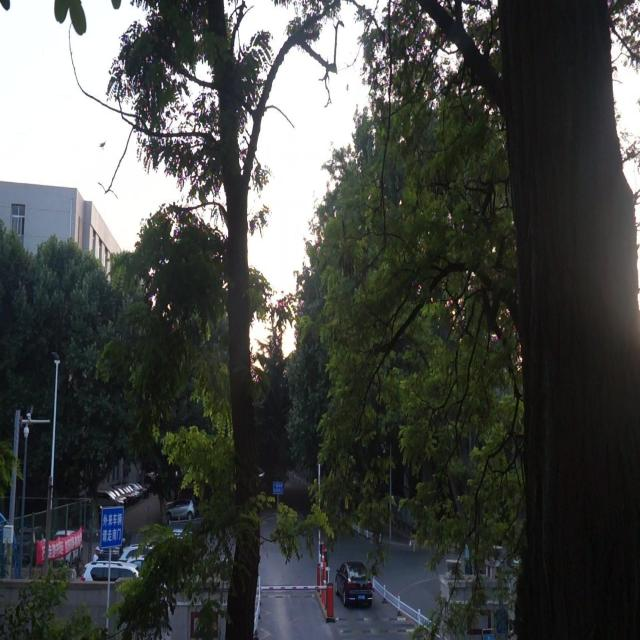UAV: (99, 140, 106, 150)
